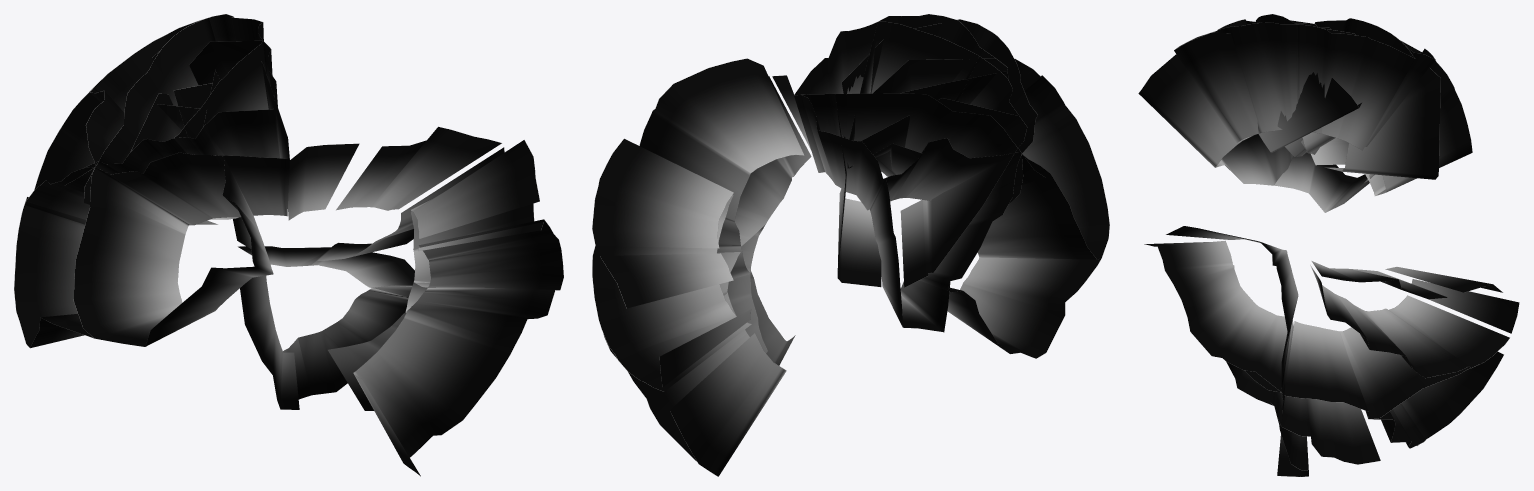
Rendered from lieguang_A4.FBX.
3 views of the same model, side by side, from view 1: azimuth 30°, elevation 25°; view 2: azimuth 150°, elevation 25°; view 3: azimuth 270°, elevation 25° (orthographic). The views are drawn at different scales.
Visible parts, largest first — view 1: lieguang_A4; view 2: lieguang_A4; view 3: lieguang_A4.
Boxes of the visible parts, x1,y1,x2,y2 form: lieguang_A4: (14,14,563,476); lieguang_A4: (592,14,1109,476); lieguang_A4: (1138,14,1519,476).
Size of the model in its own units: 207 by 193 by 170.
